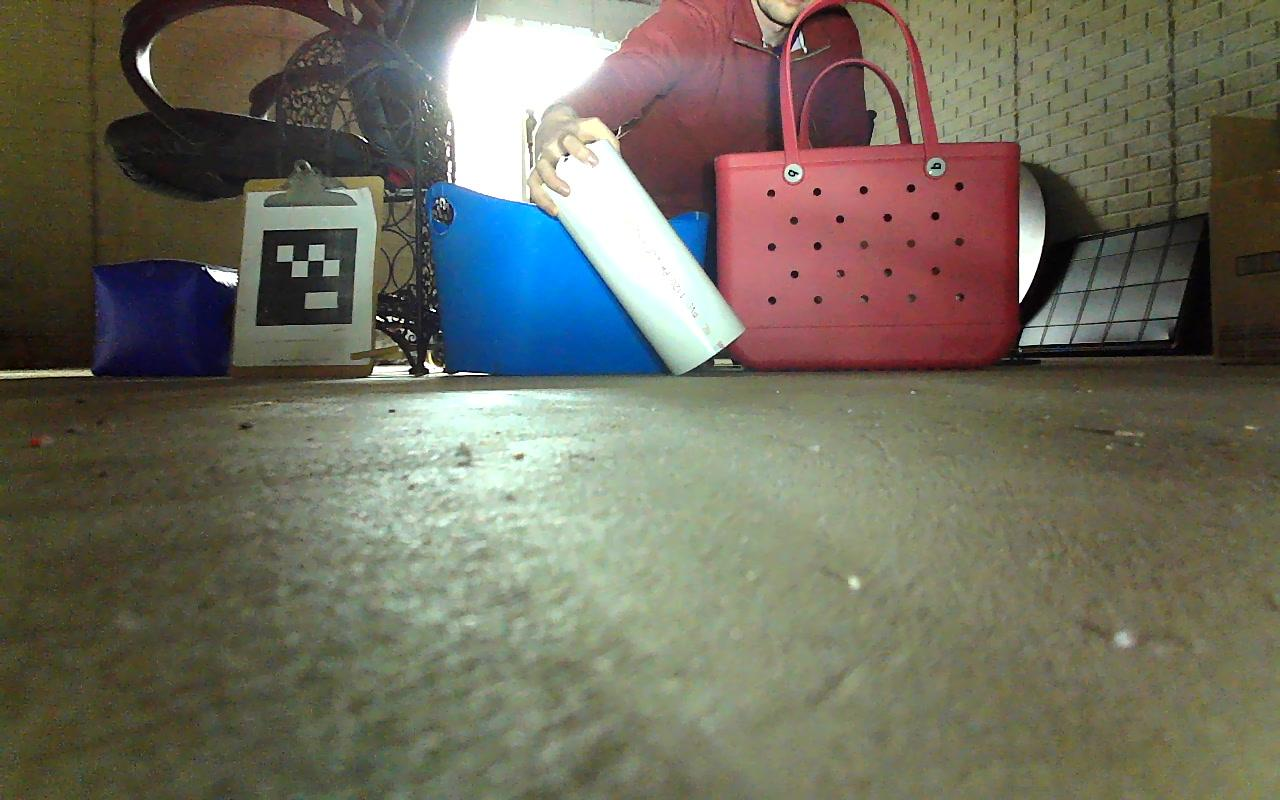coral: (535, 131, 746, 376)
